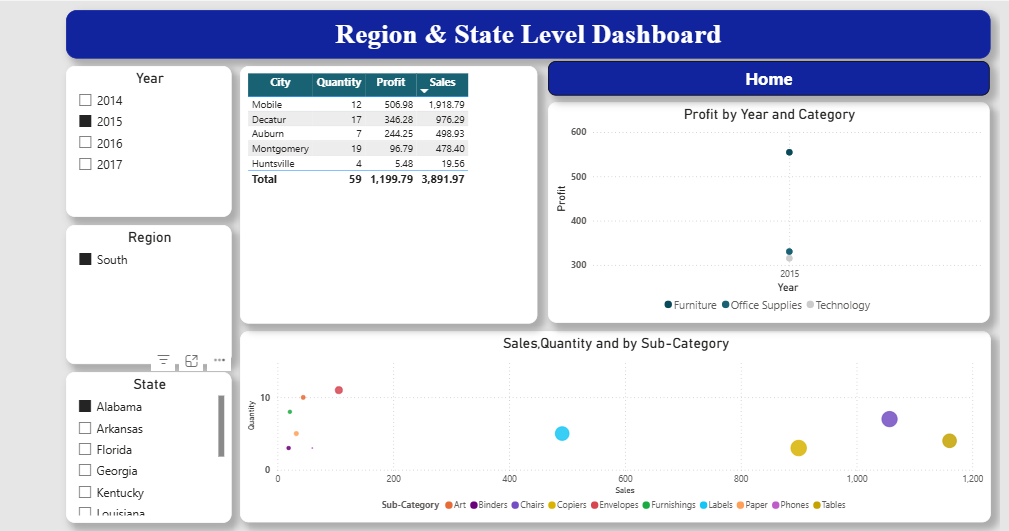

This screenshot's page, from the dashboard's own definition file:
{"tool":"powerbi","page":{"name":"Region","canvas":[1280,720],"ordinal":1},"visuals":[{"type":"textbox","box":[11.8,11.8,1256.5,65.5],"z":0},{"type":"slicer","title":"Year","fields":{"Values":["Orders.Year"]},"box":[11.7,87.8,225.4,204.9],"z":1000},{"type":"slicer","title":"Region","fields":{"Values":["Orders.Region"]},"box":[11.7,304.4,225.4,188.8],"z":2000},{"type":"slicer","title":"State","fields":{"Values":["Orders.State"]},"box":[11.7,503.4,225.4,204.9],"z":3000},{"type":"scatterChart","title":"Sales,Quantity and by Sub-Category","fields":{"X":["Sum(Orders.Sales)"],"Y":["Sum(Orders.Quantity)"],"Series":["Orders.Sub-Category"],"Size":["Sum(Orders.Profit)"]},"box":[248.8,447.8,1020,260.5],"z":4000},{"type":"tableEx","fields":{"Values":["Orders.City","Sum(Orders.Quantity)","Sum(Orders.Profit)","Sum(Orders.Sales)"]},"box":[248.8,87.8,403.9,349.8],"z":5000},{"type":"lineChart","fields":{"Category":["Orders.Year"],"Y":["Sum(Orders.Profit)"],"Series":["Orders.Category"]},"box":[667.3,137.6,600,300],"z":6000},{"type":"actionButton","box":[667.3,82,600,46.8],"z":7000}]}

Visuals, with their boxes in screenshot pixels (x1, y1, x2, y2):
textbox: box(72, 9, 985, 56)
"Year" slicer: box(72, 64, 235, 213)
"Region" slicer: box(72, 221, 235, 359)
"State" slicer: box(72, 366, 235, 515)
"Sales,Quantity and by Sub-Category" scatterChart: box(244, 326, 985, 515)
tableEx - Orders.City x Sum(Orders.Quantity): box(244, 64, 538, 318)
lineChart - Orders.Year x Sum(Orders.Profit): box(548, 100, 984, 318)
actionButton: box(548, 60, 984, 94)
